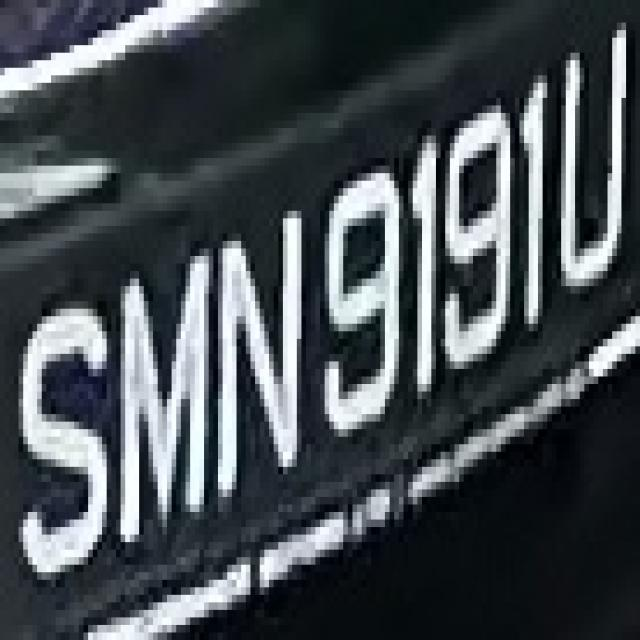1: (394, 128, 445, 444), (510, 68, 552, 361)
9: (315, 151, 413, 459), (440, 82, 520, 406)
M: (111, 233, 218, 558)
N: (209, 188, 315, 512)
S: (5, 294, 116, 587)
U: (556, 15, 640, 331)
